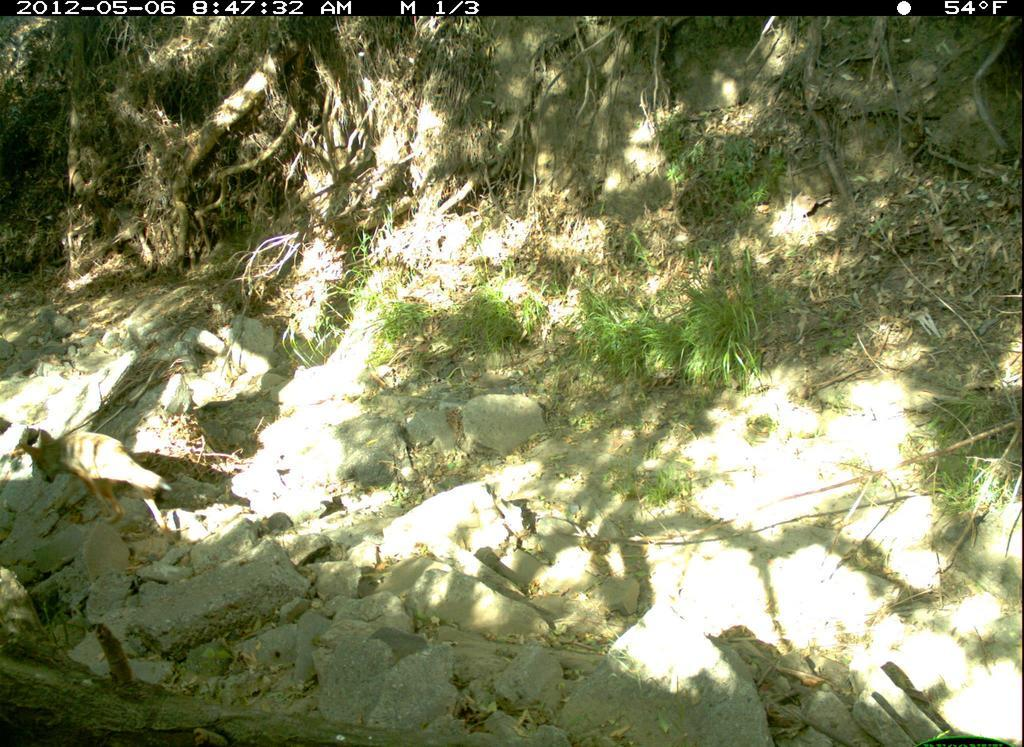coyote: (7, 415, 189, 539)
